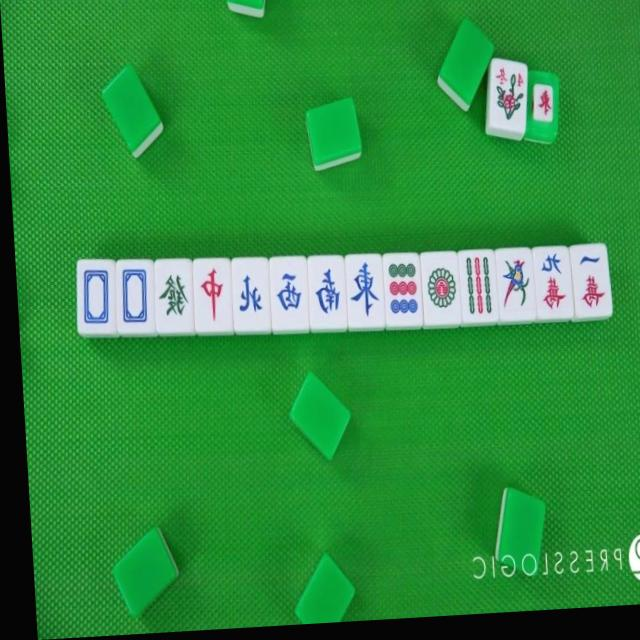bai: (113, 260, 154, 334), (75, 260, 115, 335)
east: (345, 254, 384, 330)
fa: (154, 259, 195, 335)
ff4: (483, 56, 531, 136)
m1: (571, 248, 609, 316)
m9: (536, 250, 572, 317)
north: (232, 259, 271, 333)
s1: (497, 252, 534, 321)
s9: (460, 251, 497, 323)
south: (306, 257, 345, 332)
t1: (423, 256, 460, 325)
t9: (383, 255, 421, 328)
west: (269, 256, 309, 331)
zhong: (191, 259, 231, 332)
